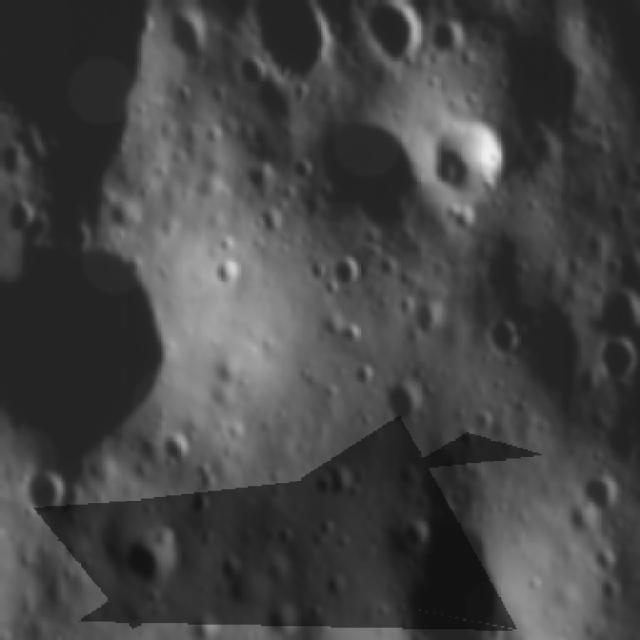crater: (402, 113, 509, 196), (248, 0, 337, 77), (589, 284, 640, 381), (368, 0, 428, 66), (123, 524, 180, 591), (25, 459, 70, 524), (475, 310, 527, 364), (380, 378, 423, 425), (402, 514, 446, 557), (326, 246, 360, 292), (580, 475, 622, 508)
